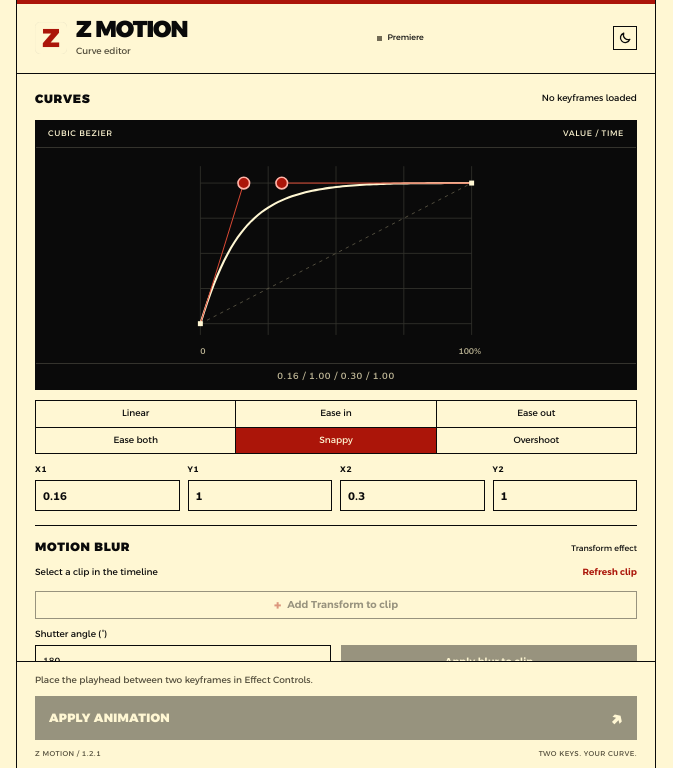
Test case: silent Premiere reloads › does not apply when the reload no longer finds the pair the user saw
This screenshot has width=673, height=768.
Hover over the element that starts with "Z Motion" at (336, 384), box left=16, top=0, right=656, bottom=767
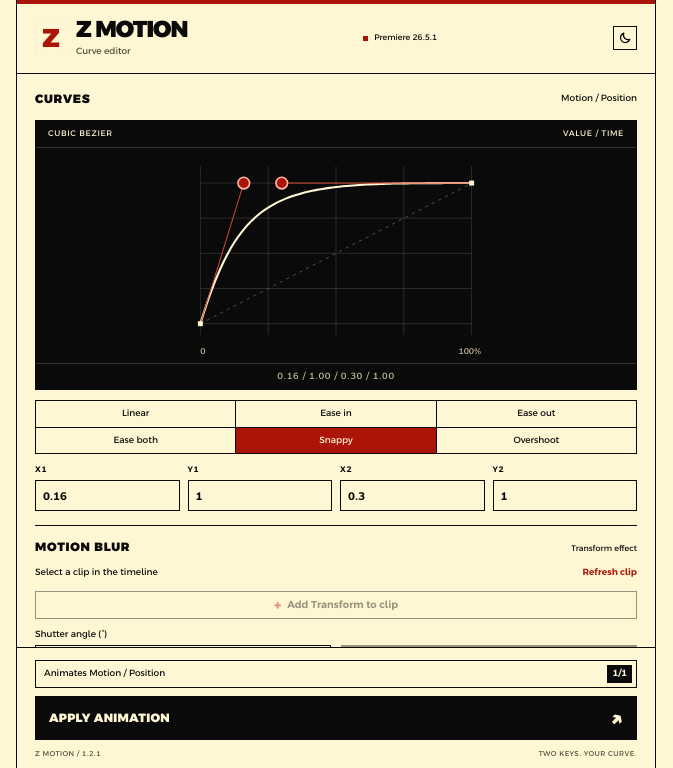
Check: the text "Motion / Position" is shown, box left=561, top=92, right=637, bottom=106
Click the button "Apply animation ↗" at (109, 718), box left=35, top=696, right=637, bottom=740
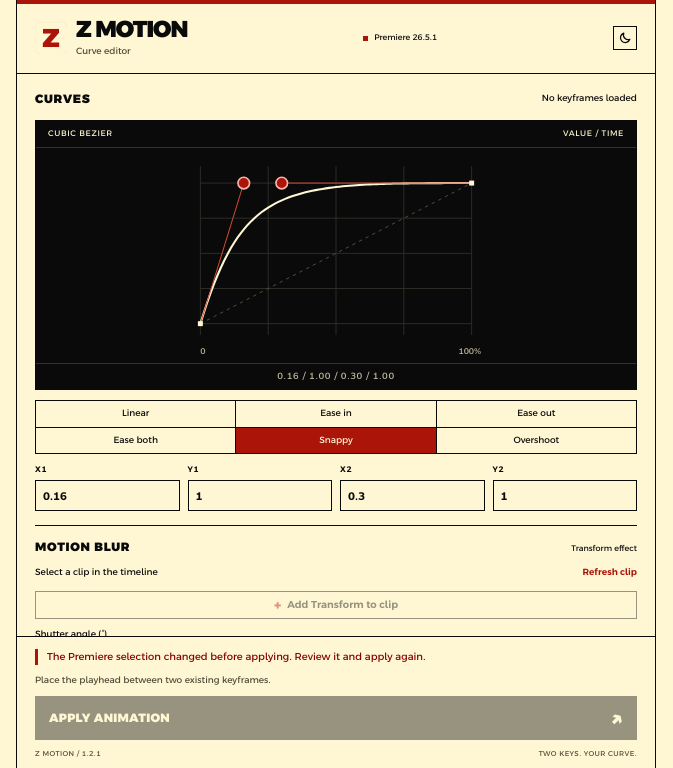
Check: the message shows "selection changed before applying", box left=47, top=651, right=426, bottom=662
